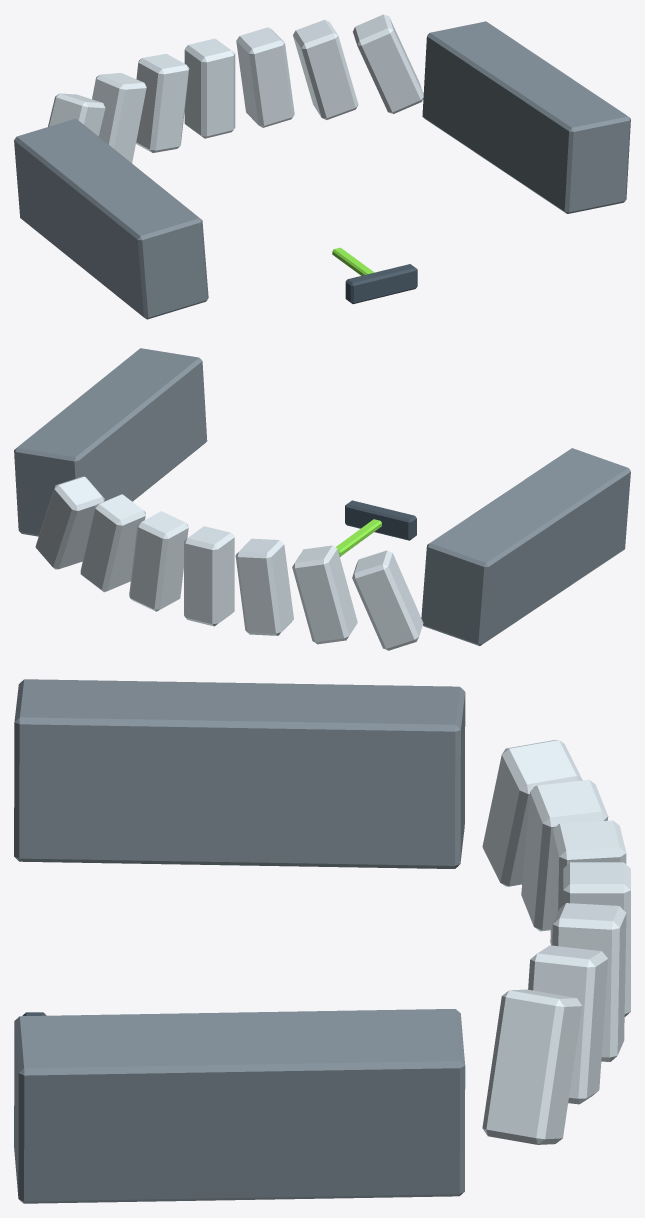
Rendered from SnowArch.fbx.
The picture shows the model from 3 angles, top to bottom: view 1: azimuth 30°, elevation 25°; view 2: azimuth 150°, elevation 25°; view 3: azimuth 270°, elevation 25°; orthographic projection. The views are drawn at different scales.
Parts seen in each view (by area): view 1: SnowPillarRight, SnowPillarLeft, SnowArchBlock.003, SnowArchBlock.004, SnowArchBlock.002, SnowArchBlock.005, SnowArchBlock.006, SnowArchBlock.001, SnowBase, SnowArchBlock, SnowSignal; view 2: SnowPillarLeft, SnowPillarRight, SnowArchBlock.002, SnowArchBlock.003, SnowArchBlock.004, SnowArchBlock.001, SnowArchBlock, SnowArchBlock.005, SnowArchBlock.006, SnowBase, SnowSignal; view 3: SnowPillarRight, SnowPillarLeft, SnowArchBlock.006, SnowArchBlock, SnowArchBlock.005, SnowArchBlock.001, SnowArchBlock.004, SnowArchBlock.002, SnowArchBlock.003.
Boxes of the visible parts, x1,y1,x2,y2 form: SnowPillarRight: [422, 21, 630, 213]; SnowPillarLeft: [14, 118, 208, 319]; SnowArchBlock.003: [184, 38, 235, 138]; SnowArchBlock.004: [236, 27, 294, 127]; SnowArchBlock.002: [136, 53, 189, 152]; SnowArchBlock.005: [293, 19, 358, 119]; SnowArchBlock.006: [353, 14, 423, 113]; SnowArchBlock.001: [92, 73, 146, 163]; SnowBase: [345, 264, 417, 303]; SnowArchBlock: [48, 93, 105, 136]; SnowSignal: [332, 247, 374, 275]; SnowPillarLeft: [421, 448, 630, 645]; SnowPillarRight: [14, 348, 207, 536]; SnowArchBlock.002: [235, 538, 293, 635]; SnowArchBlock.003: [184, 526, 234, 626]; SnowArchBlock.004: [129, 511, 188, 611]; SnowArchBlock.001: [292, 545, 357, 644]; SnowArchBlock: [352, 550, 423, 650]; SnowArchBlock.005: [80, 494, 145, 592]; SnowArchBlock.006: [35, 476, 104, 569]; SnowBase: [345, 500, 416, 540]; SnowSignal: [335, 519, 381, 556]; SnowPillarRight: [14, 1009, 465, 1203]; SnowPillarLeft: [14, 679, 465, 868]; SnowArchBlock.006: [482, 989, 582, 1144]; SnowArchBlock: [482, 740, 582, 886]; SnowArchBlock.005: [528, 945, 608, 1104]; SnowArchBlock.001: [521, 779, 608, 931]; SnowArchBlock.004: [552, 903, 626, 1061]; SnowArchBlock.002: [550, 820, 626, 945]; SnowArchBlock.003: [563, 862, 630, 1016].
Bounding box in the file's own units: 606 × 147 × 400.
